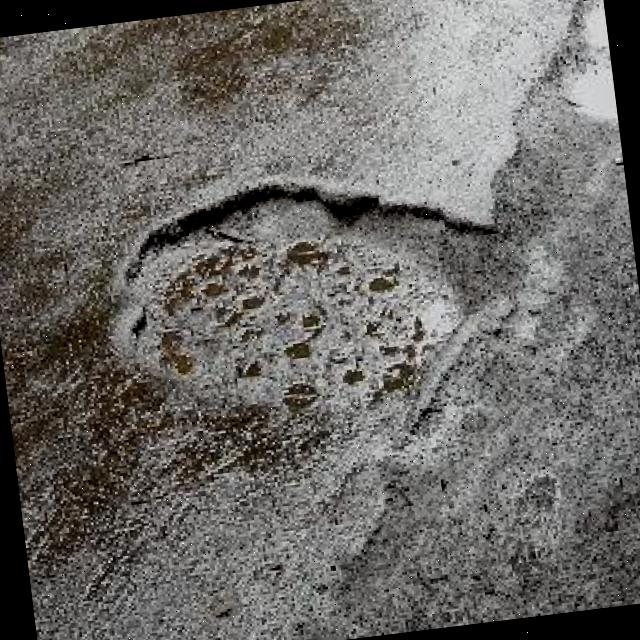waterlogging: (91, 144, 522, 473)
